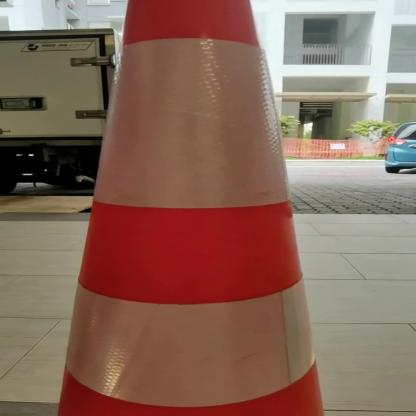cone: (20, 0, 343, 416)
